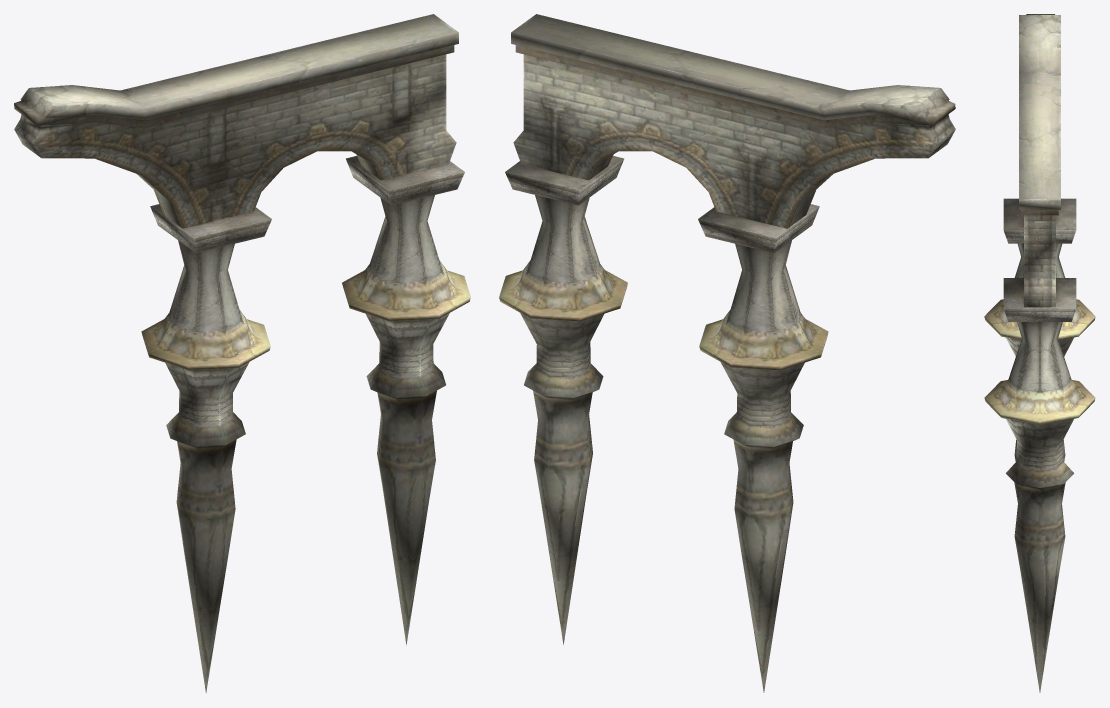
Rendered from S_Build_City119.FBX.
The picture shows the model from 3 angles, left to right: view 1: azimuth 30°, elevation 25°; view 2: azimuth 150°, elevation 25°; view 3: azimuth 270°, elevation 25°; orthographic projection. The views are drawn at different scales.
Parts seen in each view (by area): view 1: S_Build_City119; view 2: S_Build_City119; view 3: S_Build_City119.
Boxes of the visible parts, left/top/right/bottom form: S_Build_City119: left=14, top=14, right=470, bottom=693; S_Build_City119: left=499, top=14, right=955, bottom=692; S_Build_City119: left=984, top=14, right=1095, bottom=692.
Size of the model in its own units: 1867 by 2578 by 491.
